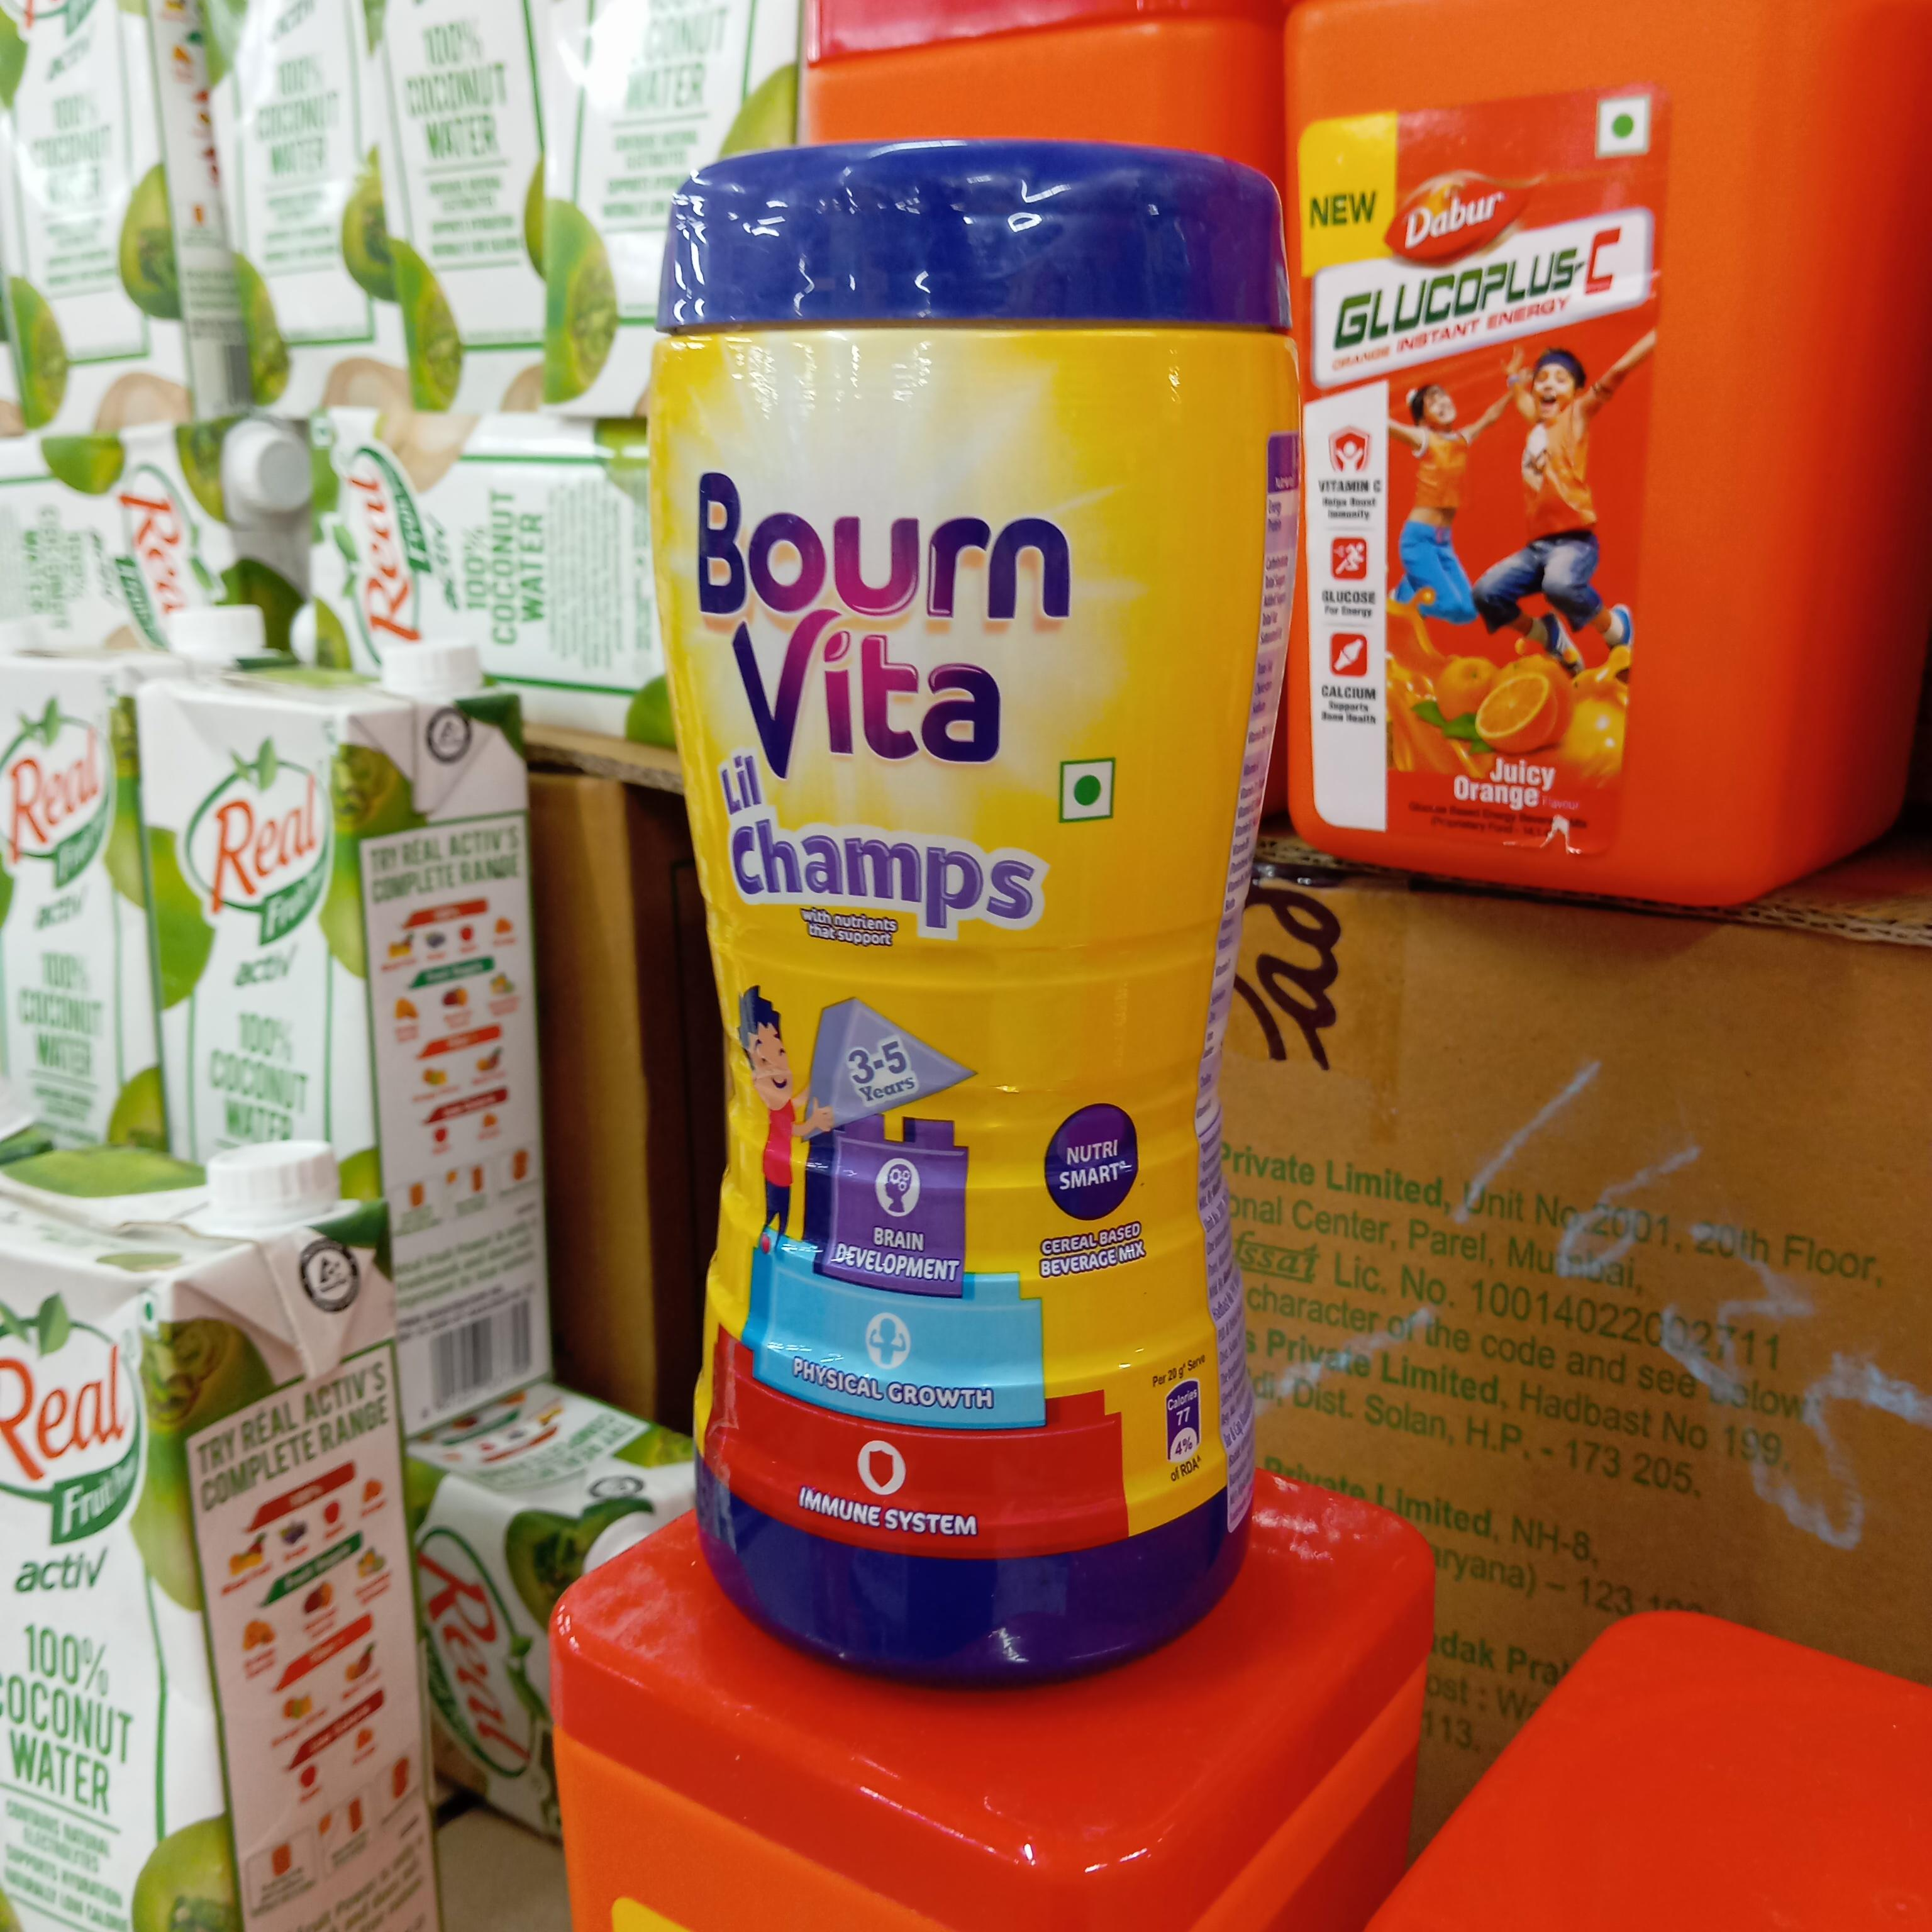BOURN_VITA_CHAMPS_500_G_JAR: (653, 138, 1263, 1693)
